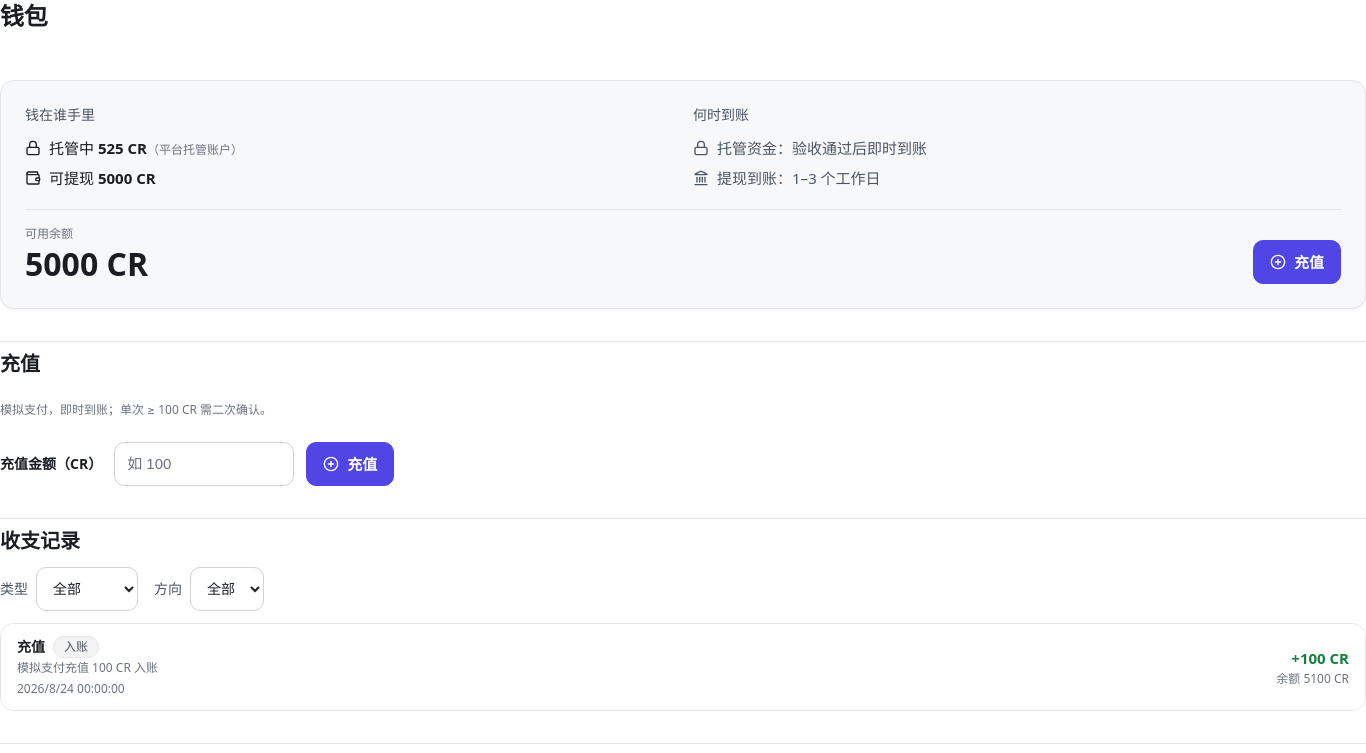
Test: WalletPage（区域 6 钱包） › large topup shows confirm dialog with balance change, then submits confirm:true（大额二次确认）
The image size is (1366, 753).
Expected: the element with test id "wallet-balance" is shown, [0, 80, 1365, 309]
Type "500" into the number field labelled "充值金额".
click(204, 464); type("500")  # box [114, 442, 294, 486]
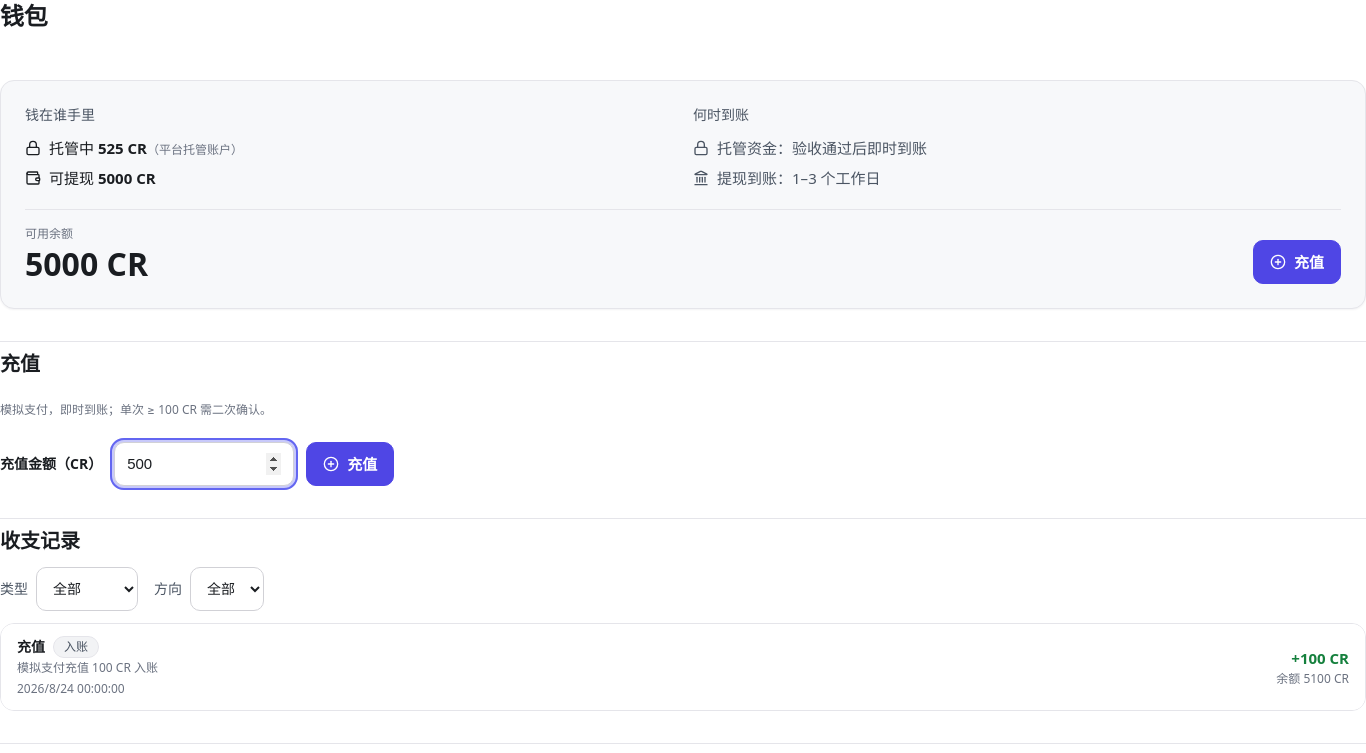
Click the button "充值" in the row of "充值金额（CR）".
click(350, 464)  # box [306, 442, 394, 486]
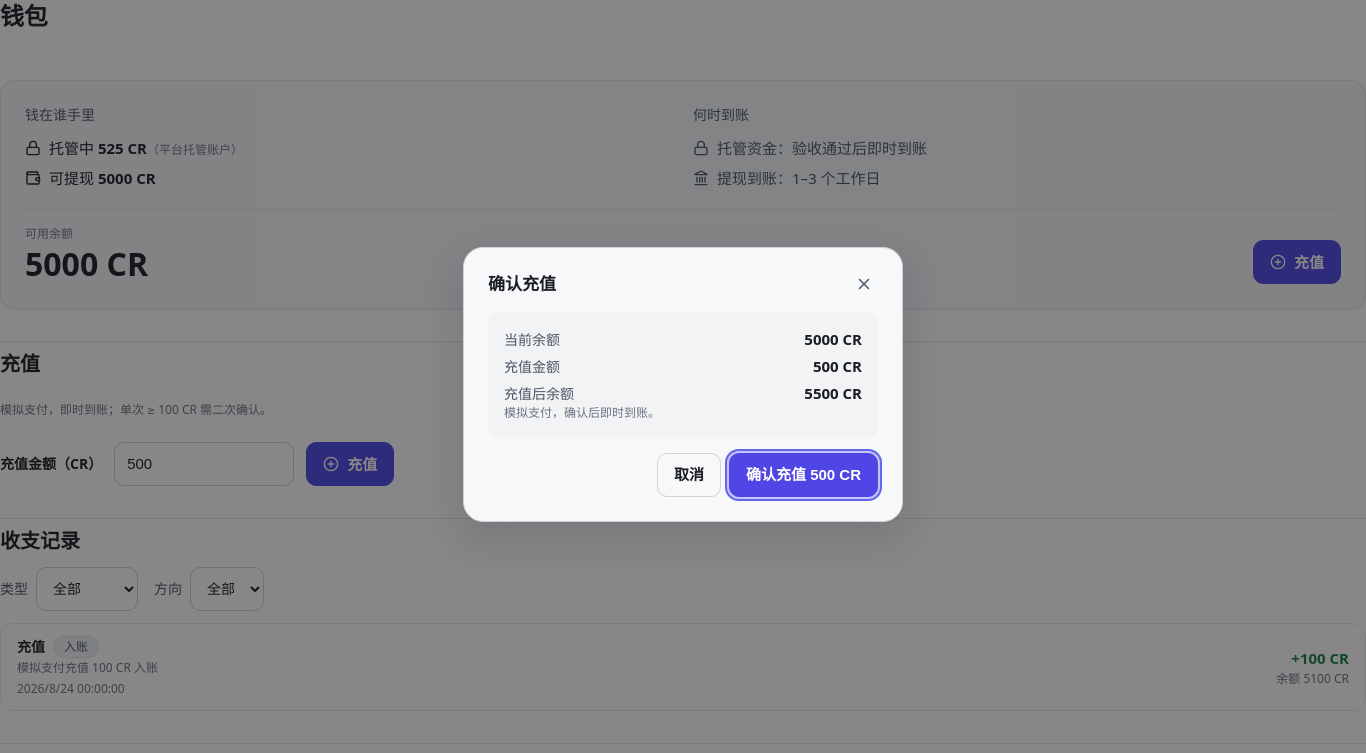
Result: the text "当前余额" is shown at [504, 328, 560, 350]
Result: the text "5000 CR" is shown at [804, 328, 862, 350]
Result: the text "充值金额" is shown at [504, 356, 560, 378]
# 确认按钮文案含金额
Click the button "确认充值 500 CR".
click(804, 474)  # box [729, 452, 878, 496]
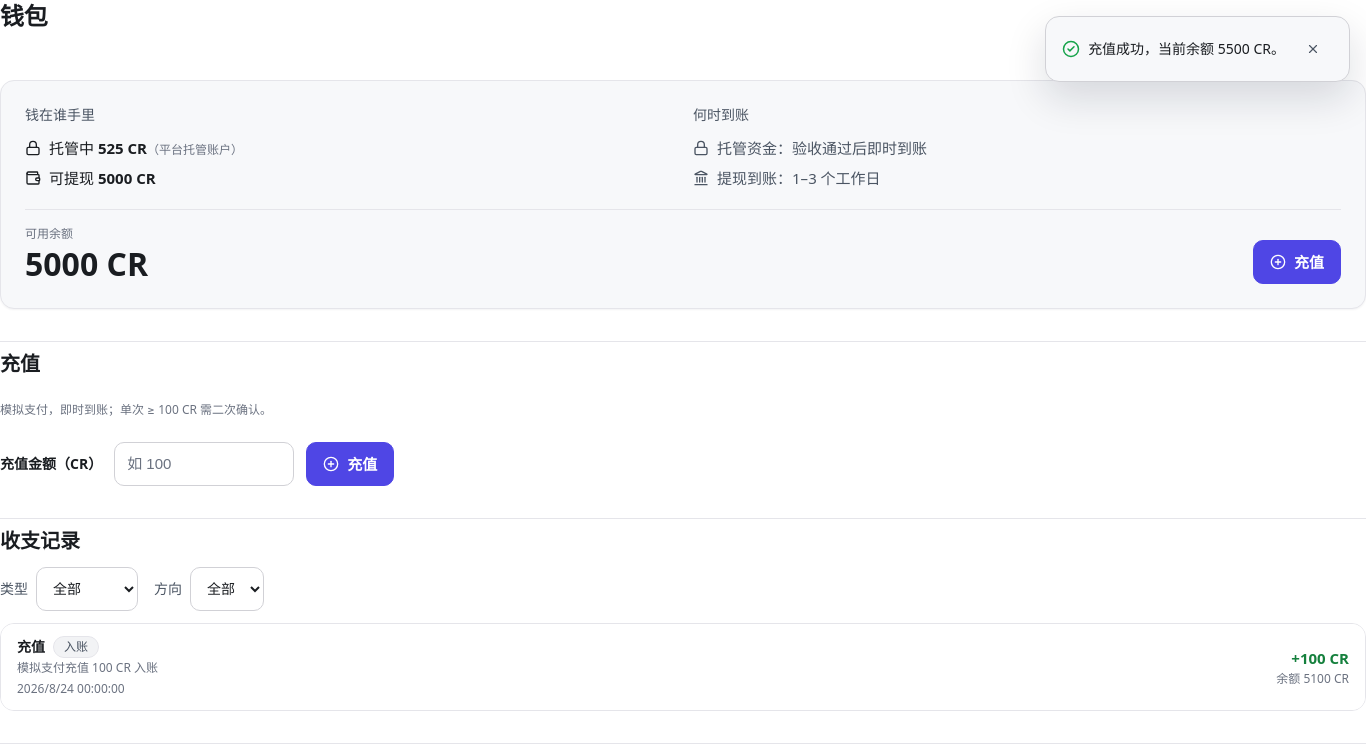
Result: the element with test id "toast" is shown at [1045, 16, 1350, 82]
